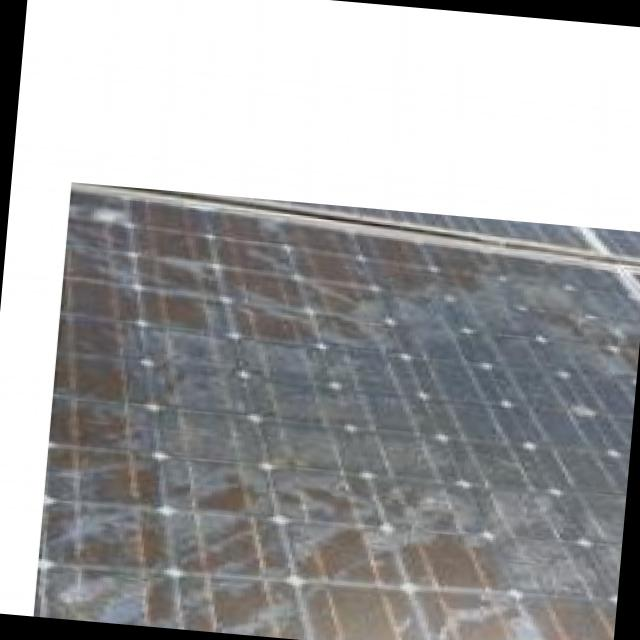faulty: (33, 183, 640, 640)
